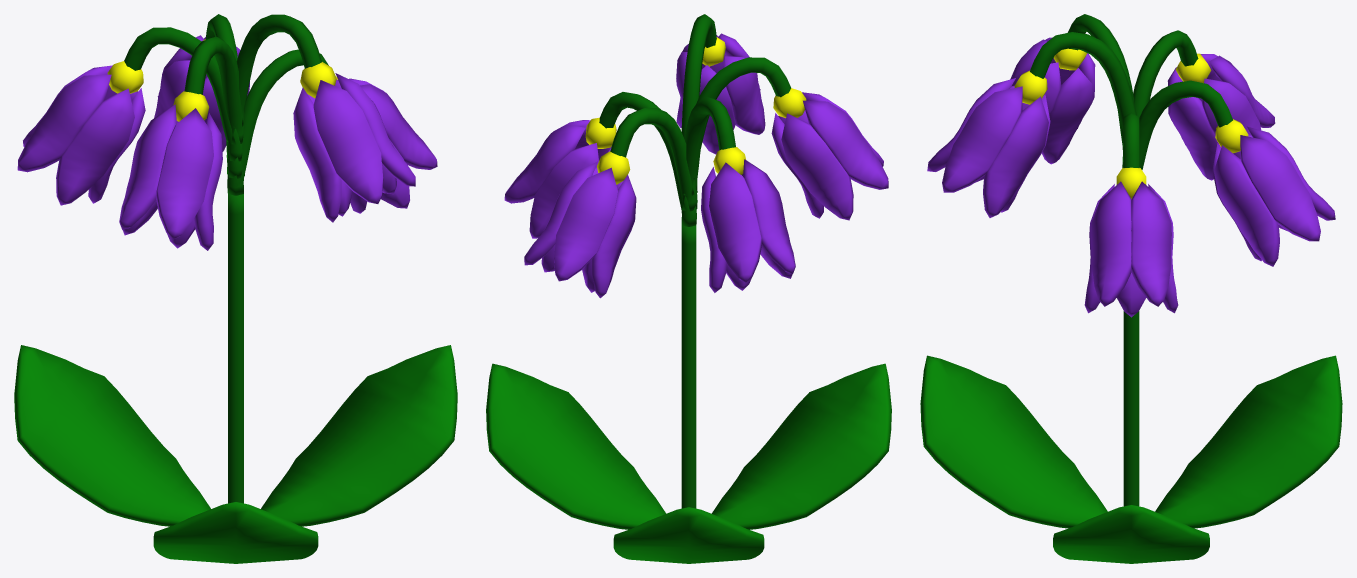
File: bluebells_0001.obj
3 views of the same model, side by side, from view 1: azimuth 30°, elevation 25°; view 2: azimuth 150°, elevation 25°; view 3: azimuth 270°, elevation 25° (orthographic). The views are drawn at different scales.
Visible parts, largest first — view 1: bluebells_0001; view 2: bluebells_0001; view 3: bluebells_0001.
Boxes of the visible parts, x1,y1,x2,y2 form: bluebells_0001: (14, 14, 457, 563); bluebells_0001: (486, 14, 891, 563); bluebells_0001: (920, 14, 1342, 563).
Bounding box in the file's own units: 2.34 × 3.16 × 2.36.
1 material, 1 textured.
